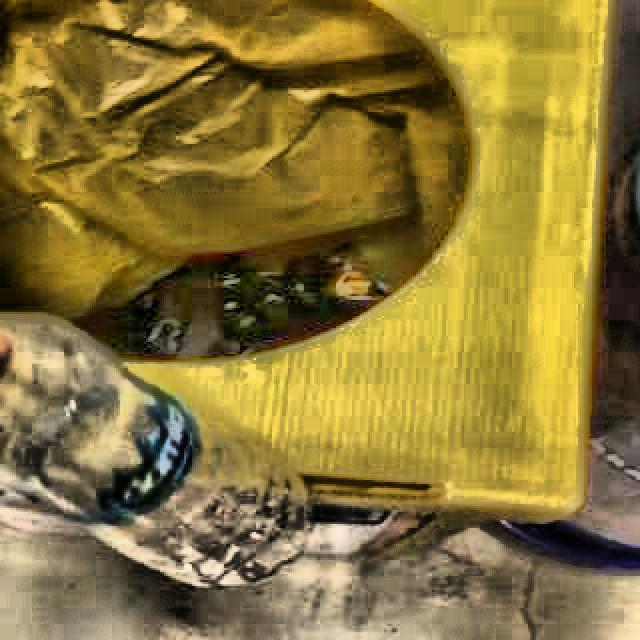plastic: (0, 316, 312, 588)
